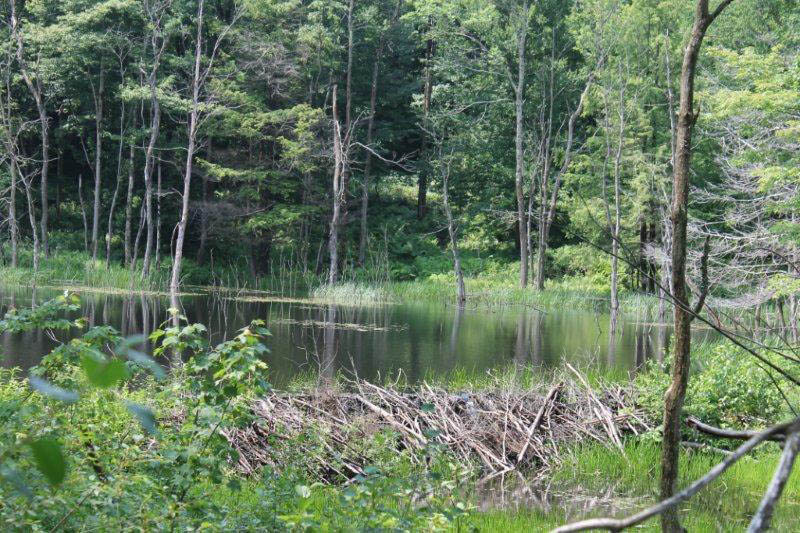tree: (427, 1, 646, 287), (158, 1, 230, 295), (55, 1, 122, 267), (1, 1, 66, 267)
vegetation: (24, 391, 794, 533), (322, 281, 533, 297)
water: (3, 266, 745, 391)
